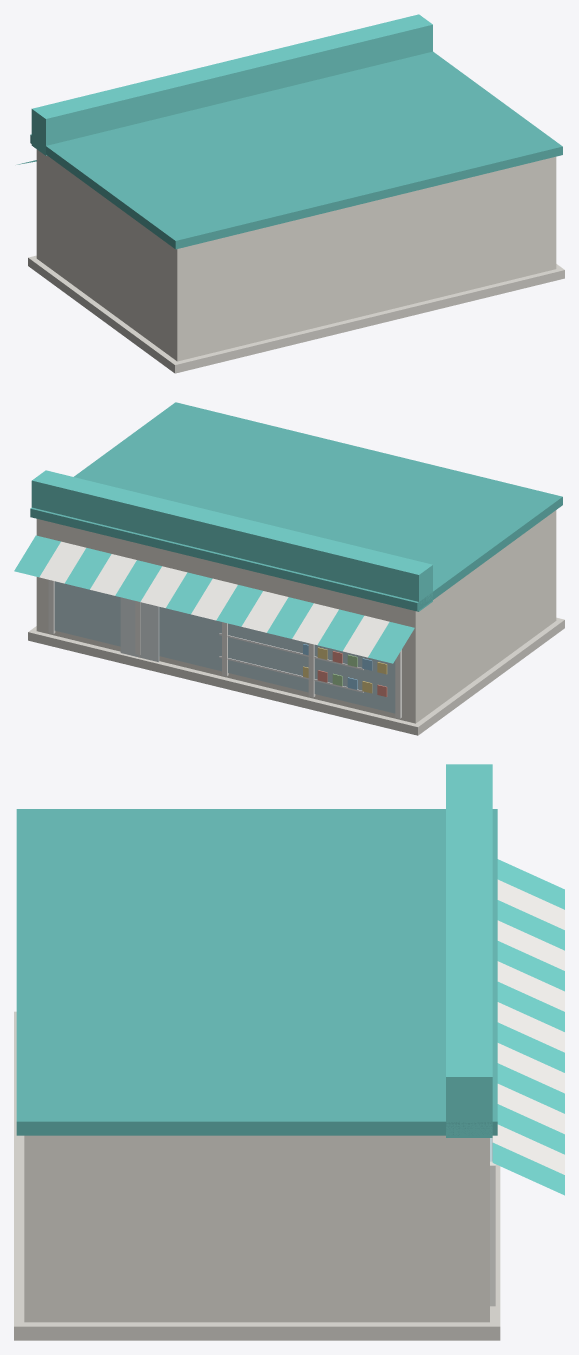
File: shop_dukon.glb
3 views of the same model, one above another, from view 1: azimuth 30°, elevation 25°; view 2: azimuth 150°, elevation 25°; view 3: azimuth 270°, elevation 25° (orthographic). The views are drawn at different scales.
Visible parts, largest first — view 1: ShopDukon; view 2: ShopDukon; view 3: ShopDukon.
Part boxes in pixels (x1,y1,x2,y2): ShopDukon: (17, 14, 564, 373); ShopDukon: (14, 402, 564, 735); ShopDukon: (14, 764, 564, 1340).
Size of the model in its own units: 14.4 by 5.6 by 10.65.
